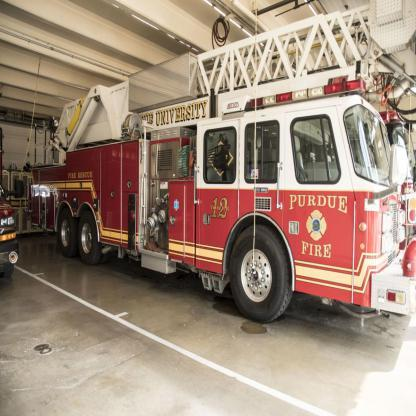fire-truck: (29, 47, 416, 334)
